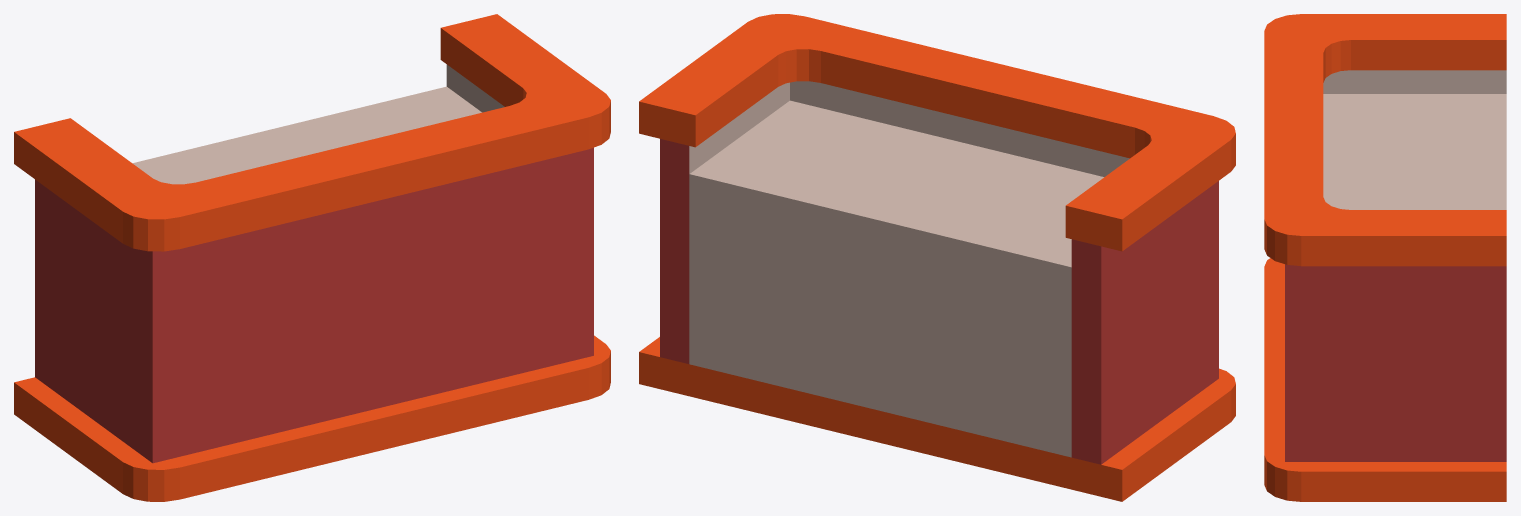
File: TableStand_geo.fbx
The picture shows the model from 3 angles, left to right: view 1: azimuth 30°, elevation 25°; view 2: azimuth 150°, elevation 25°; view 3: azimuth 270°, elevation 25°; orthographic projection. The views are drawn at different scales.
Visible parts, largest first — view 1: TableStand_geo; view 2: TableStand_geo; view 3: TableStand_geo.
Boxes of the visible parts, box(x1,y1,x2,y2) form: TableStand_geo: box(14, 14, 610, 501); TableStand_geo: box(639, 14, 1235, 501); TableStand_geo: box(1264, 14, 1506, 501).
Bounding box in the file's own units: 1.55 × 0.7143 × 0.8646.
